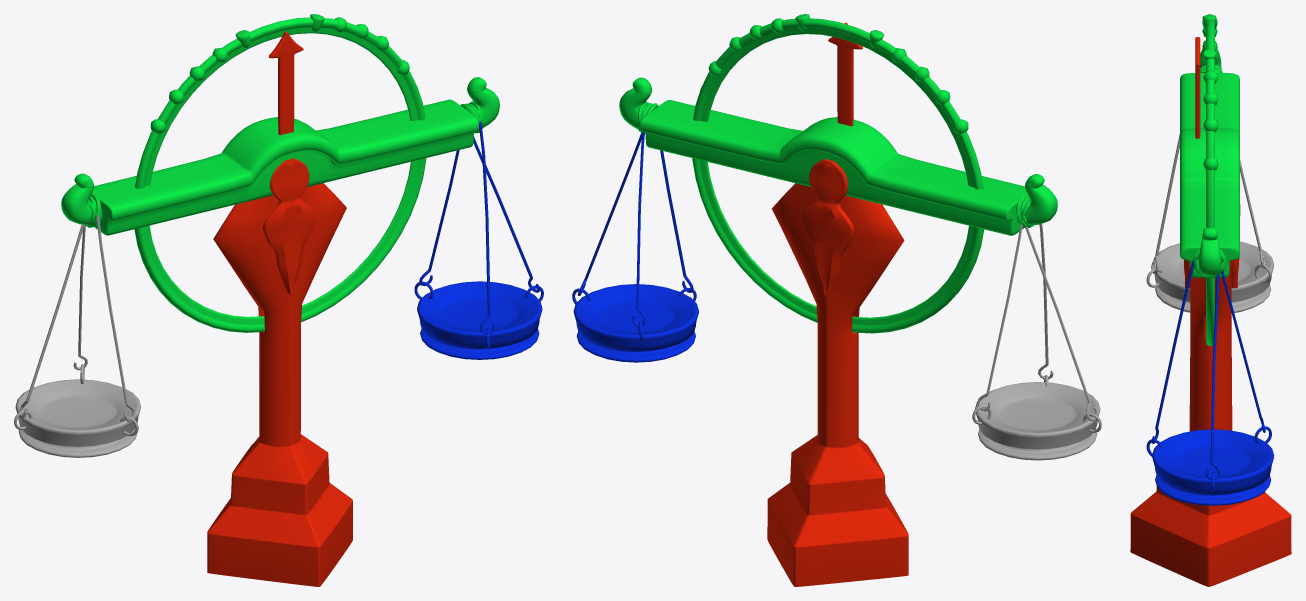
The model's file is BCT_scale_v2.fbx.
3 renders of one model, left to right at view 1: azimuth 30°, elevation 25°; view 2: azimuth 150°, elevation 25°; view 3: azimuth 270°, elevation 25°, orthographic. The views are drawn at different scales.
Parts seen in each view (by area): view 1: BCT_scale_base_01_GEO, BCT_scale_base_02_GEO, BCT_scale_r_GEO, BCT_scale_l_GEO; view 2: BCT_scale_base_02_GEO, BCT_scale_base_01_GEO, BCT_scale_r_GEO, BCT_scale_l_GEO; view 3: BCT_scale_base_01_GEO, BCT_scale_base_02_GEO, BCT_scale_l_GEO, BCT_scale_r_GEO.
Boxes of the visible parts, bbox=[...] form: BCT_scale_base_01_GEO: bbox=[207, 31, 352, 586]; BCT_scale_base_02_GEO: bbox=[61, 14, 499, 332]; BCT_scale_r_GEO: bbox=[14, 215, 140, 457]; BCT_scale_l_GEO: bbox=[414, 122, 543, 359]; BCT_scale_base_02_GEO: bbox=[619, 14, 1057, 333]; BCT_scale_base_01_GEO: bbox=[767, 22, 908, 586]; BCT_scale_r_GEO: bbox=[972, 223, 1101, 460]; BCT_scale_l_GEO: bbox=[572, 132, 698, 362]; BCT_scale_base_01_GEO: bbox=[1130, 37, 1291, 586]; BCT_scale_base_02_GEO: bbox=[1180, 14, 1239, 346]; BCT_scale_l_GEO: bbox=[1146, 260, 1274, 505]; BCT_scale_r_GEO: bbox=[1146, 134, 1274, 312].
Size of the model in its own units: 8.58 by 8.28 by 2.32.
